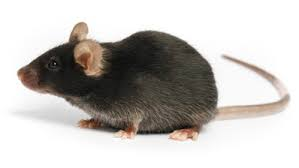mice: (17, 21, 292, 141)
